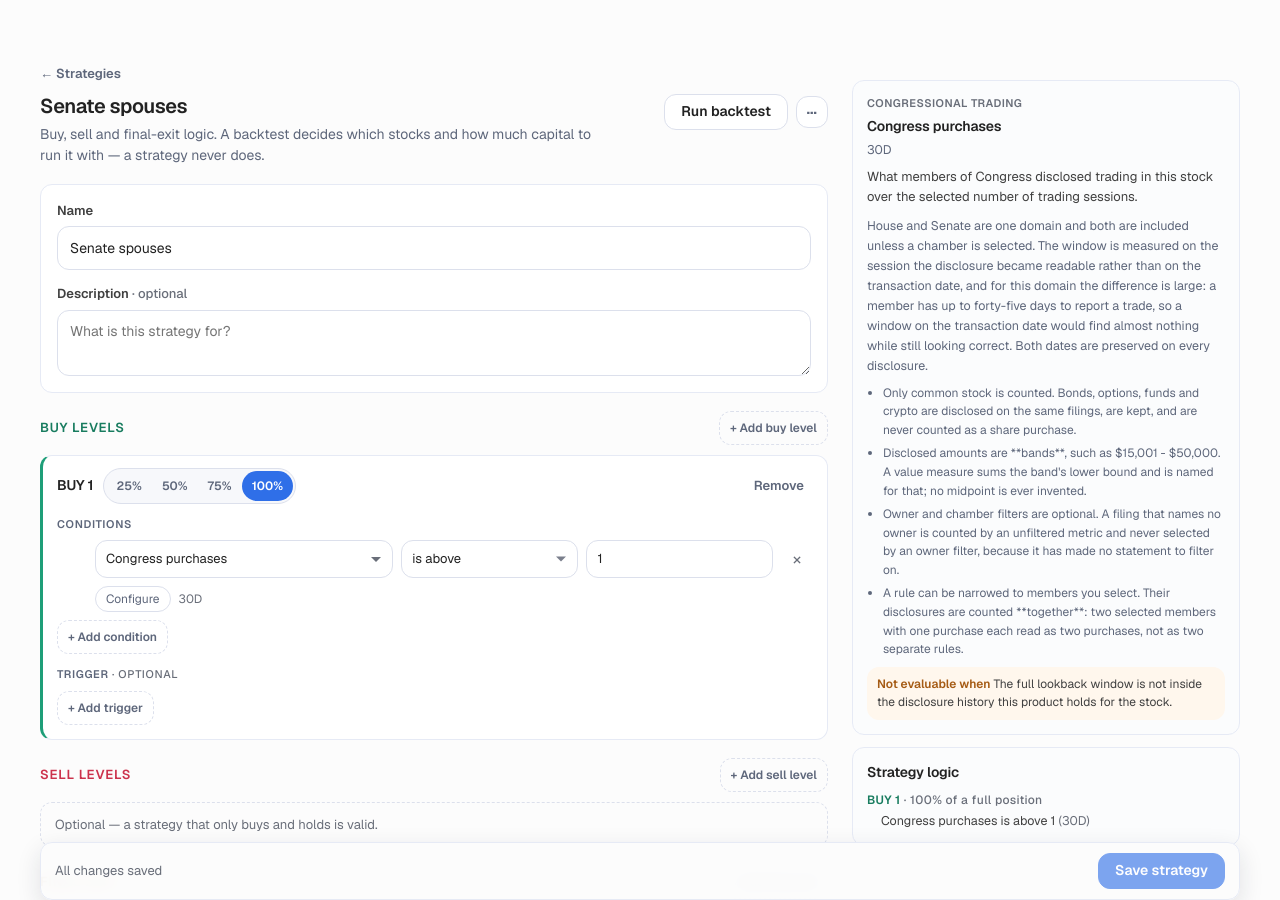
Test: the configuration surface › summarizes a congressional lookback, chamber and owner together
The image size is (1280, 900).
Check: the list item with test id "predicate-row" is shown, box [57,540,813,612]
Click the button with test id "operand-config-button": click(133, 599) [95,586,171,612]
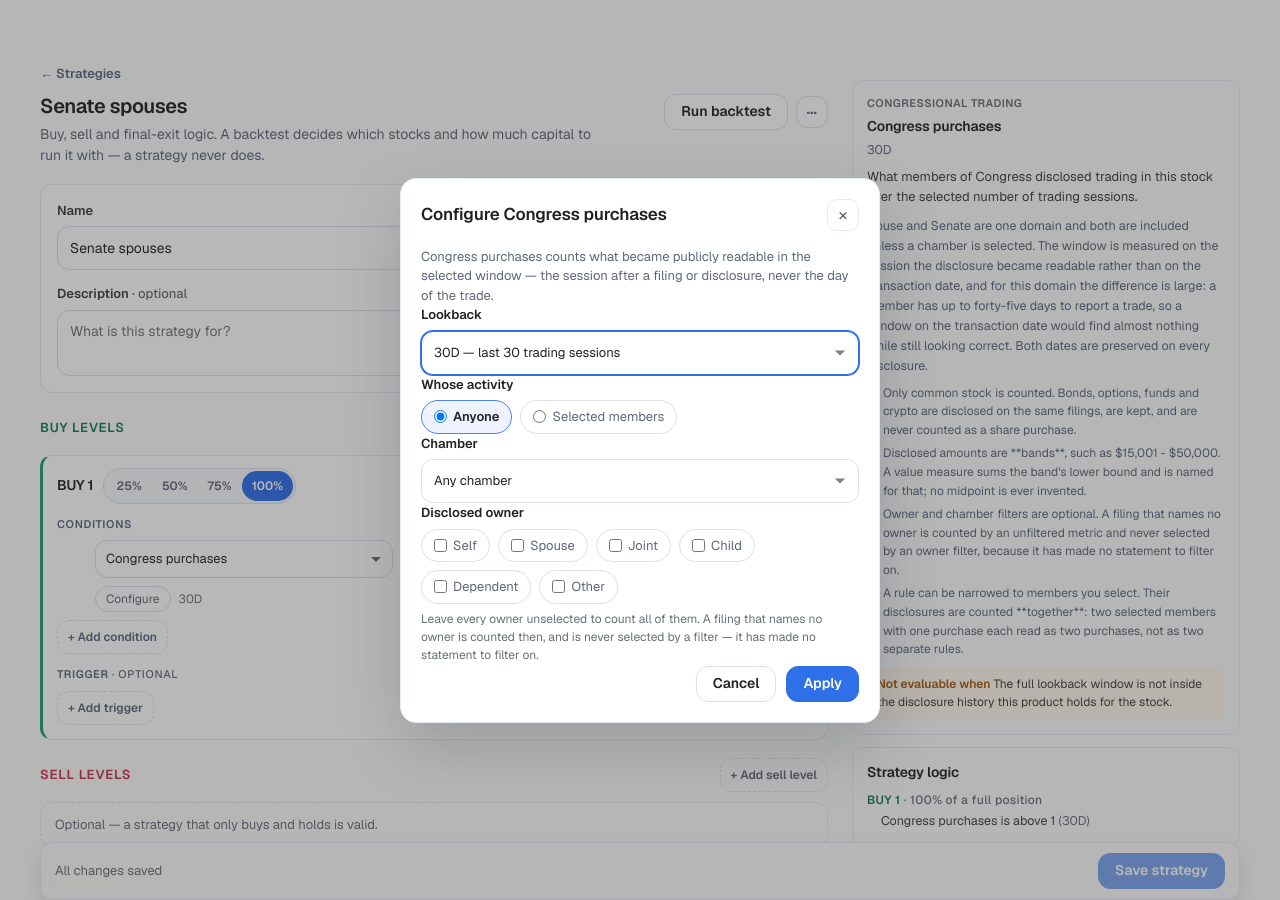
Select "Senate" in the dropdown named "Chamber": (640, 481) [421,459,859,503]
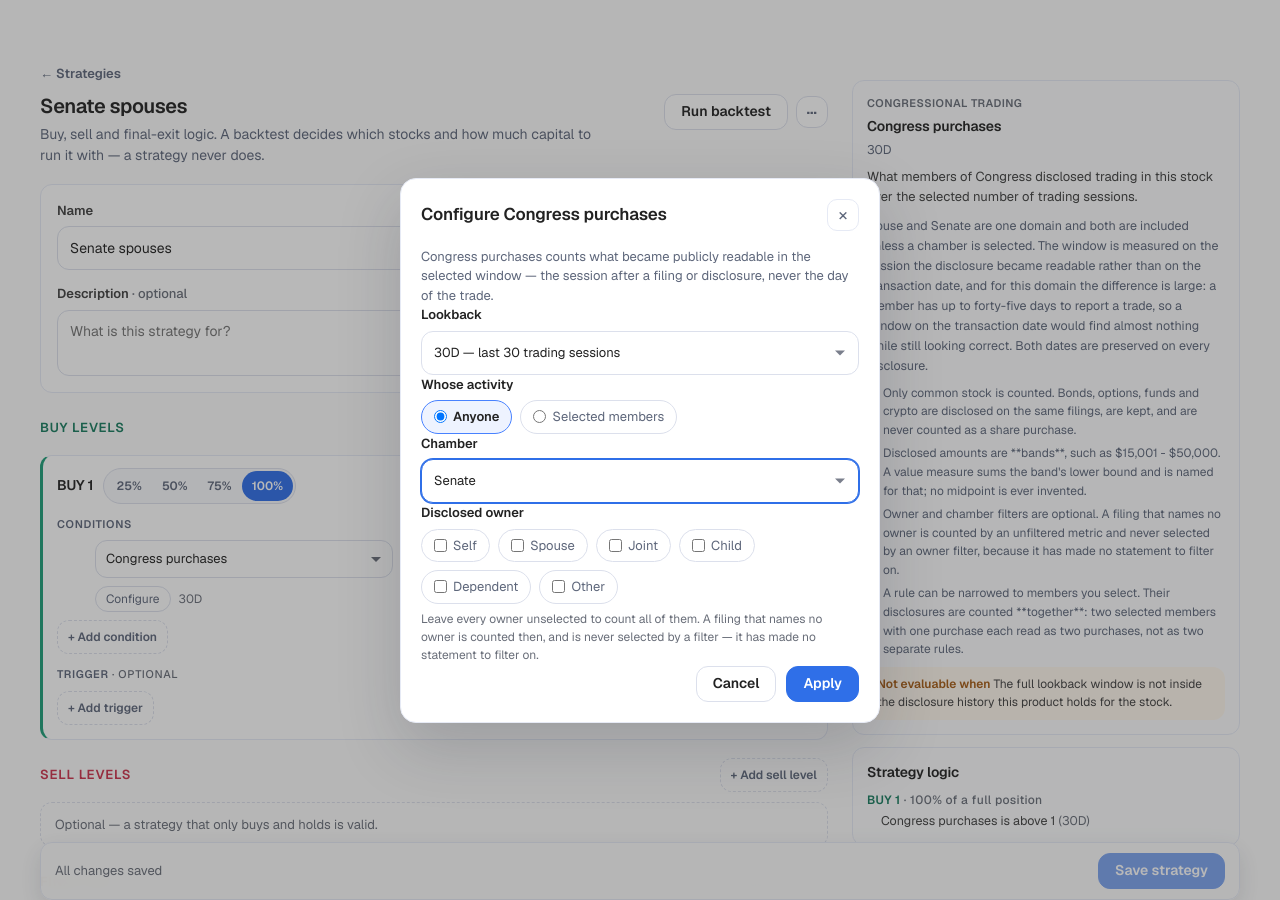
Click the checkbox labelled "Spouse": click(518, 545) [511,539,524,552]
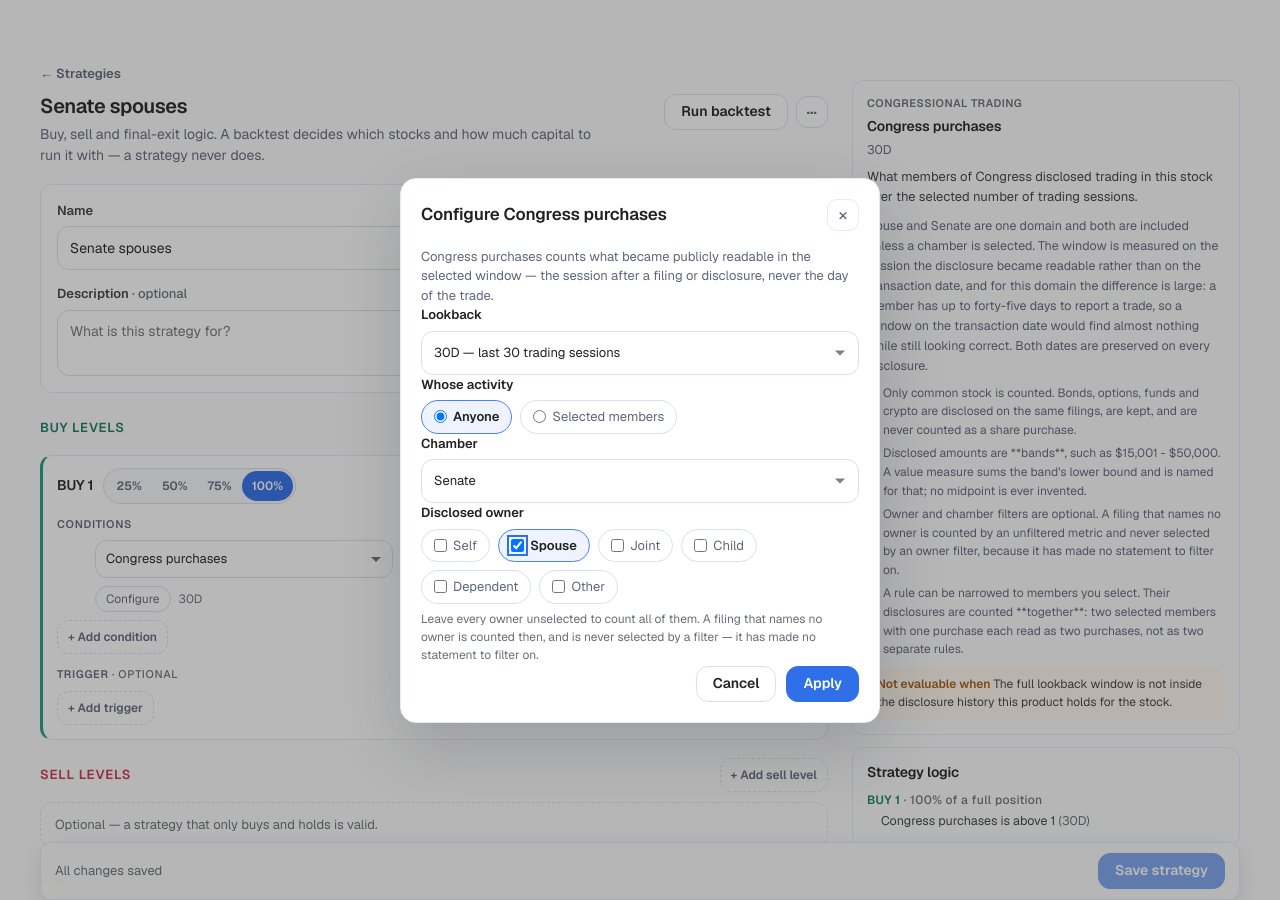
Click the checkbox labelled "Self": click(440, 545) [434,539,447,552]
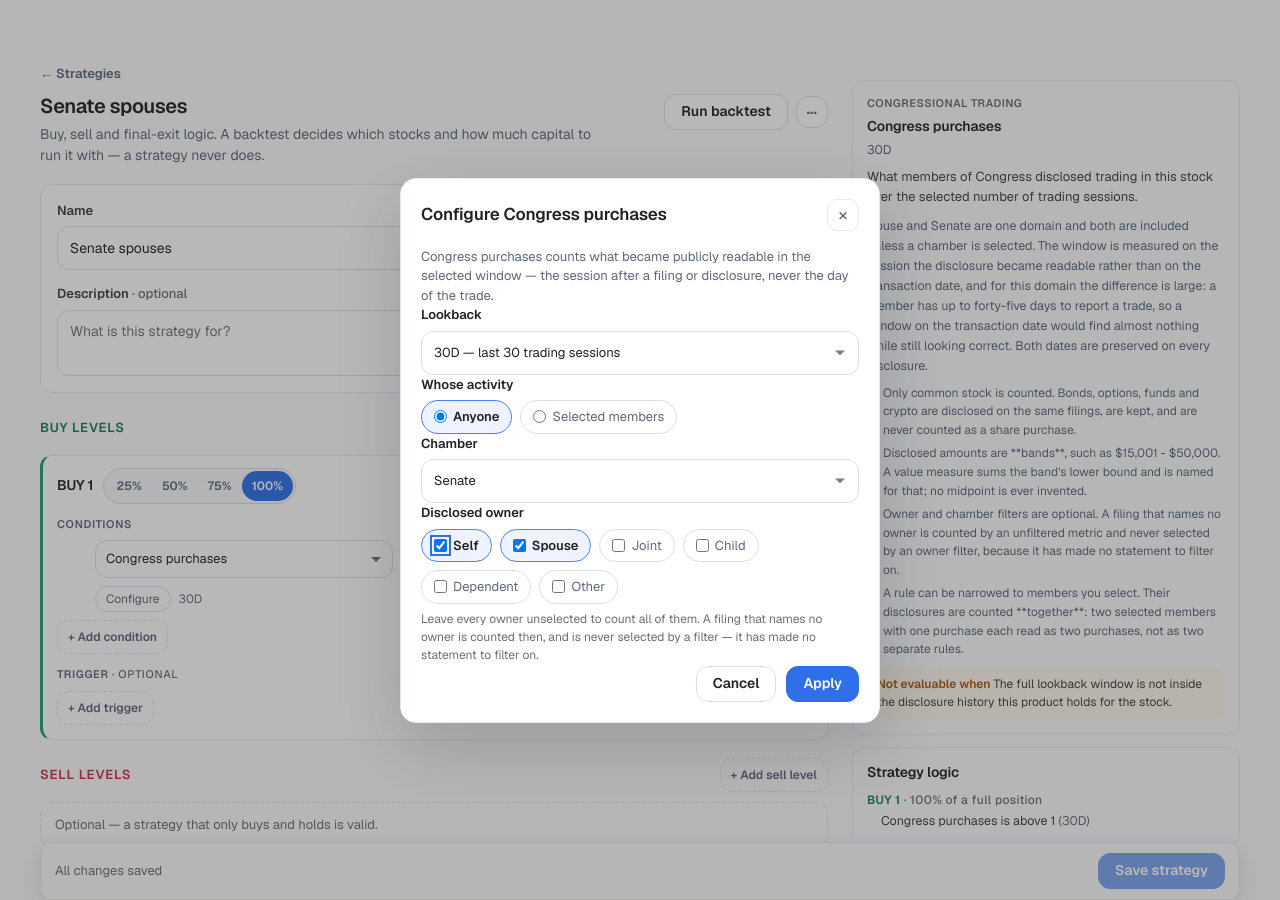
Click the button with test id "alternative-data-config-apply": click(823, 684) [786,666,859,702]
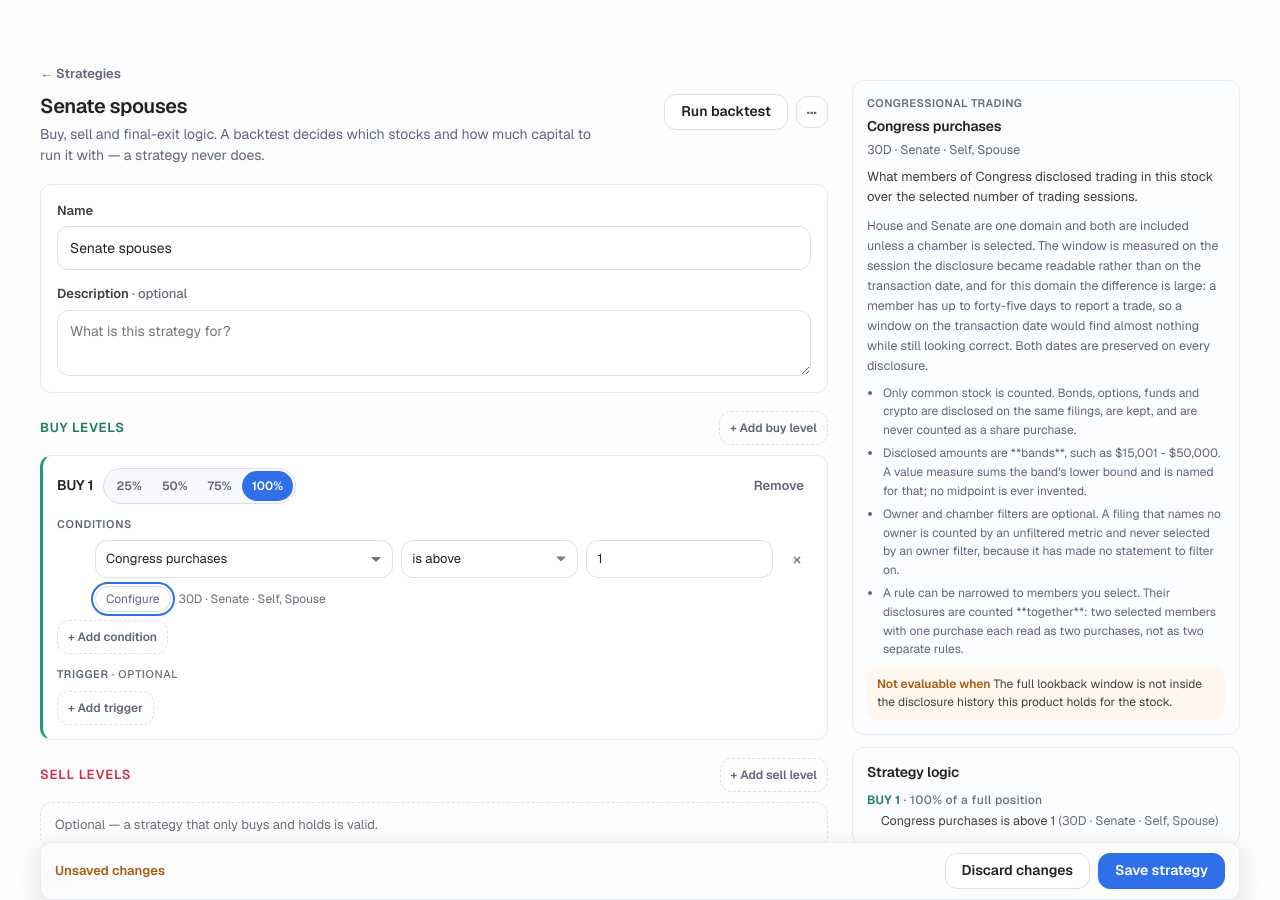
Check: the dialog with test id "alternative-data-config" is gone
Check: the text with test id "operand-configuration-summary" reads "30D · Senate · Self, Spouse", box [179,591,326,607]
